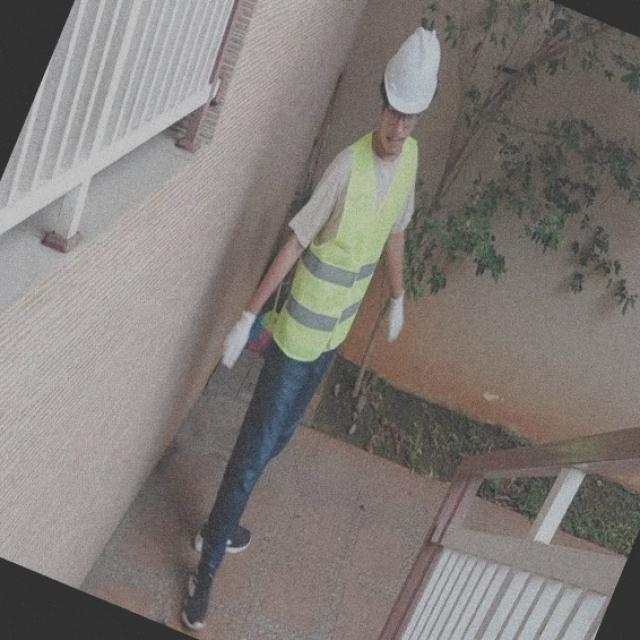helmet: (378, 24, 453, 114)
safety_vest: (254, 120, 426, 374)
